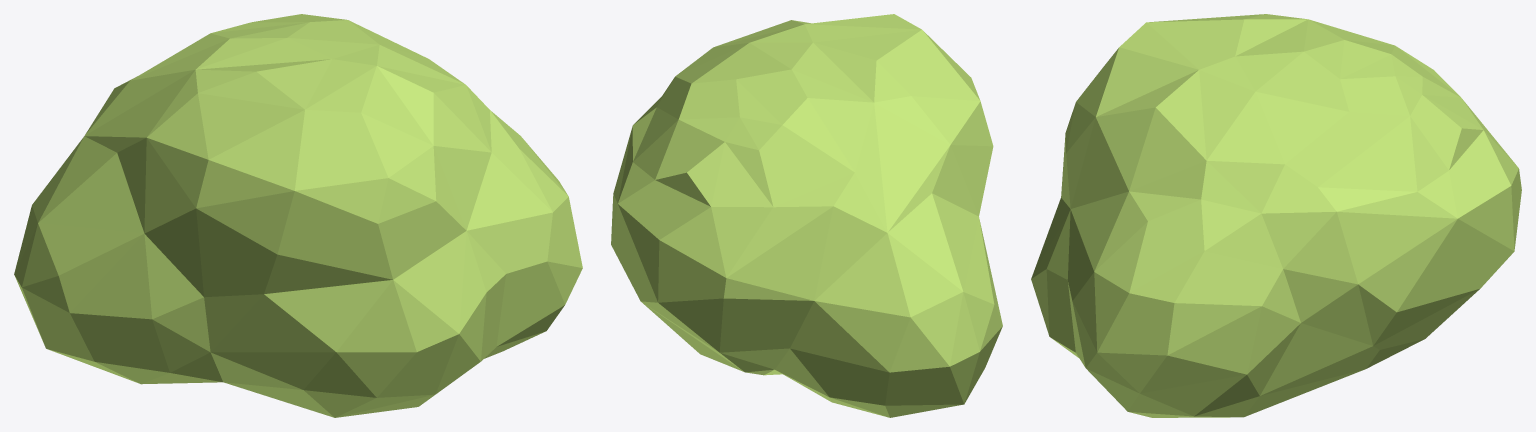
File: Bush_a_l_02.fbx
3 renders of one model, left to right at view 1: azimuth 30°, elevation 25°; view 2: azimuth 150°, elevation 25°; view 3: azimuth 270°, elevation 25°, orthographic. The views are drawn at different scales.
Visible parts, largest first — view 1: Bush_a_l_02; view 2: Bush_a_l_02; view 3: Bush_a_l_02.
Part boxes in pixels (x1=…): Bush_a_l_02: x1=14, y1=14, x2=582, y2=417; Bush_a_l_02: x1=611, y1=14, x2=1002, y2=417; Bush_a_l_02: x1=1031, y1=14, x2=1521, y2=417.
Size of the model in its own units: 336 by 228 by 314.
